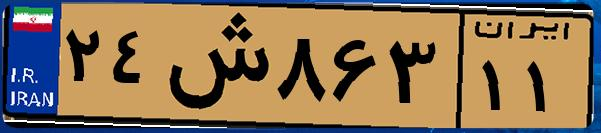1: (475, 38, 525, 113), (525, 38, 570, 115)
2: (57, 26, 110, 100)
3: (385, 28, 445, 110)
4: (110, 28, 158, 98)
6: (330, 28, 385, 110)
8: (270, 28, 330, 110)
ش: (158, 12, 270, 120)
